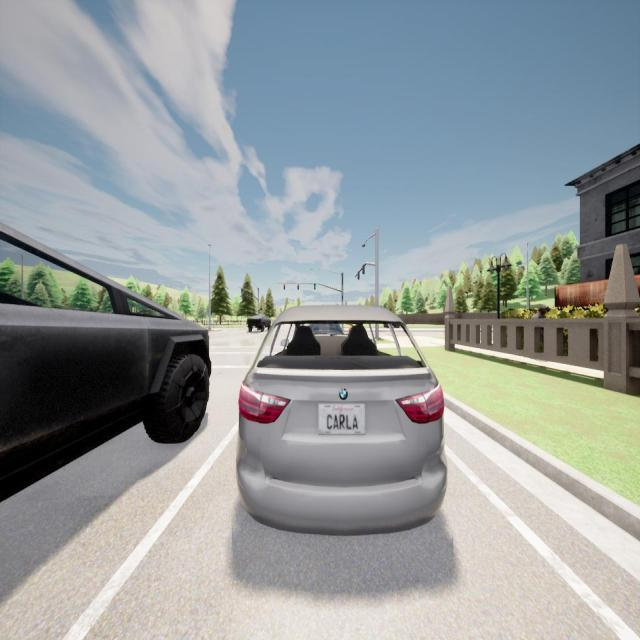Pedestrian: (528, 302, 551, 320)
Vehicle: (0, 223, 213, 501), (236, 306, 446, 534), (246, 313, 273, 332)
traffic_light: (357, 271, 360, 280), (362, 265, 365, 274), (314, 284, 316, 290), (284, 284, 285, 290), (298, 284, 299, 290)
